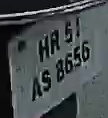1: (72, 17, 83, 40)
5: (71, 47, 84, 69), (62, 21, 74, 44)
6: (64, 54, 76, 75), (81, 41, 91, 64)
8: (54, 58, 65, 85)
A: (27, 77, 43, 101)
H: (34, 37, 52, 61)
R: (50, 32, 62, 55)
S: (40, 71, 55, 92)
